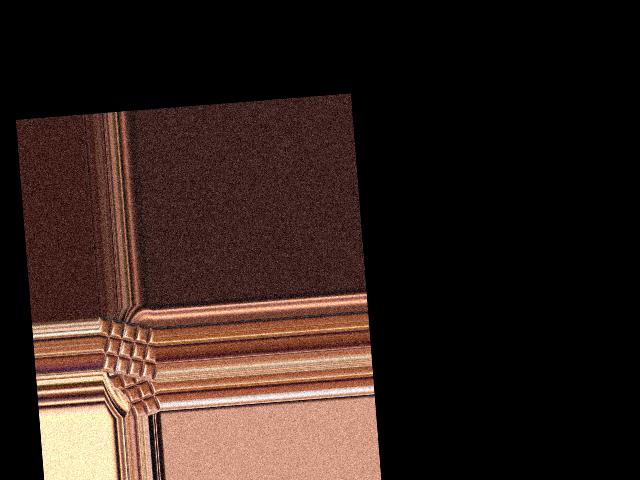chocolate: (98, 311, 159, 387)
